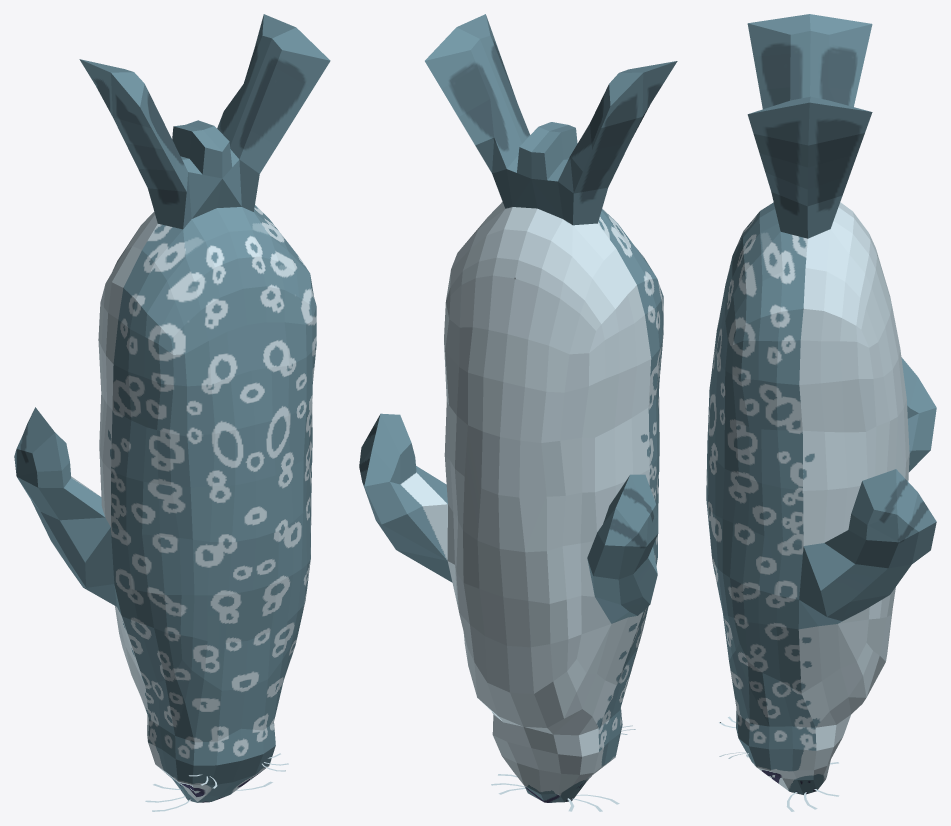
Rendered from ringed_seal_new1.fbx.
The picture shows the model from 3 angles, left to right: view 1: azimuth 30°, elevation 25°; view 2: azimuth 150°, elevation 25°; view 3: azimuth 270°, elevation 25°; orthographic projection. The views are drawn at different scales.
Visible parts, largest first — view 1: seal; view 2: seal; view 3: seal.
Boxes of the visible parts, x1=… form: seal: x1=14, y1=14, x2=330, y2=811; seal: x1=359, y1=14, x2=677, y2=811; seal: x1=706, y1=14, x2=936, y2=811.
Bounding box in the file's own units: 187 × 470 × 134.
